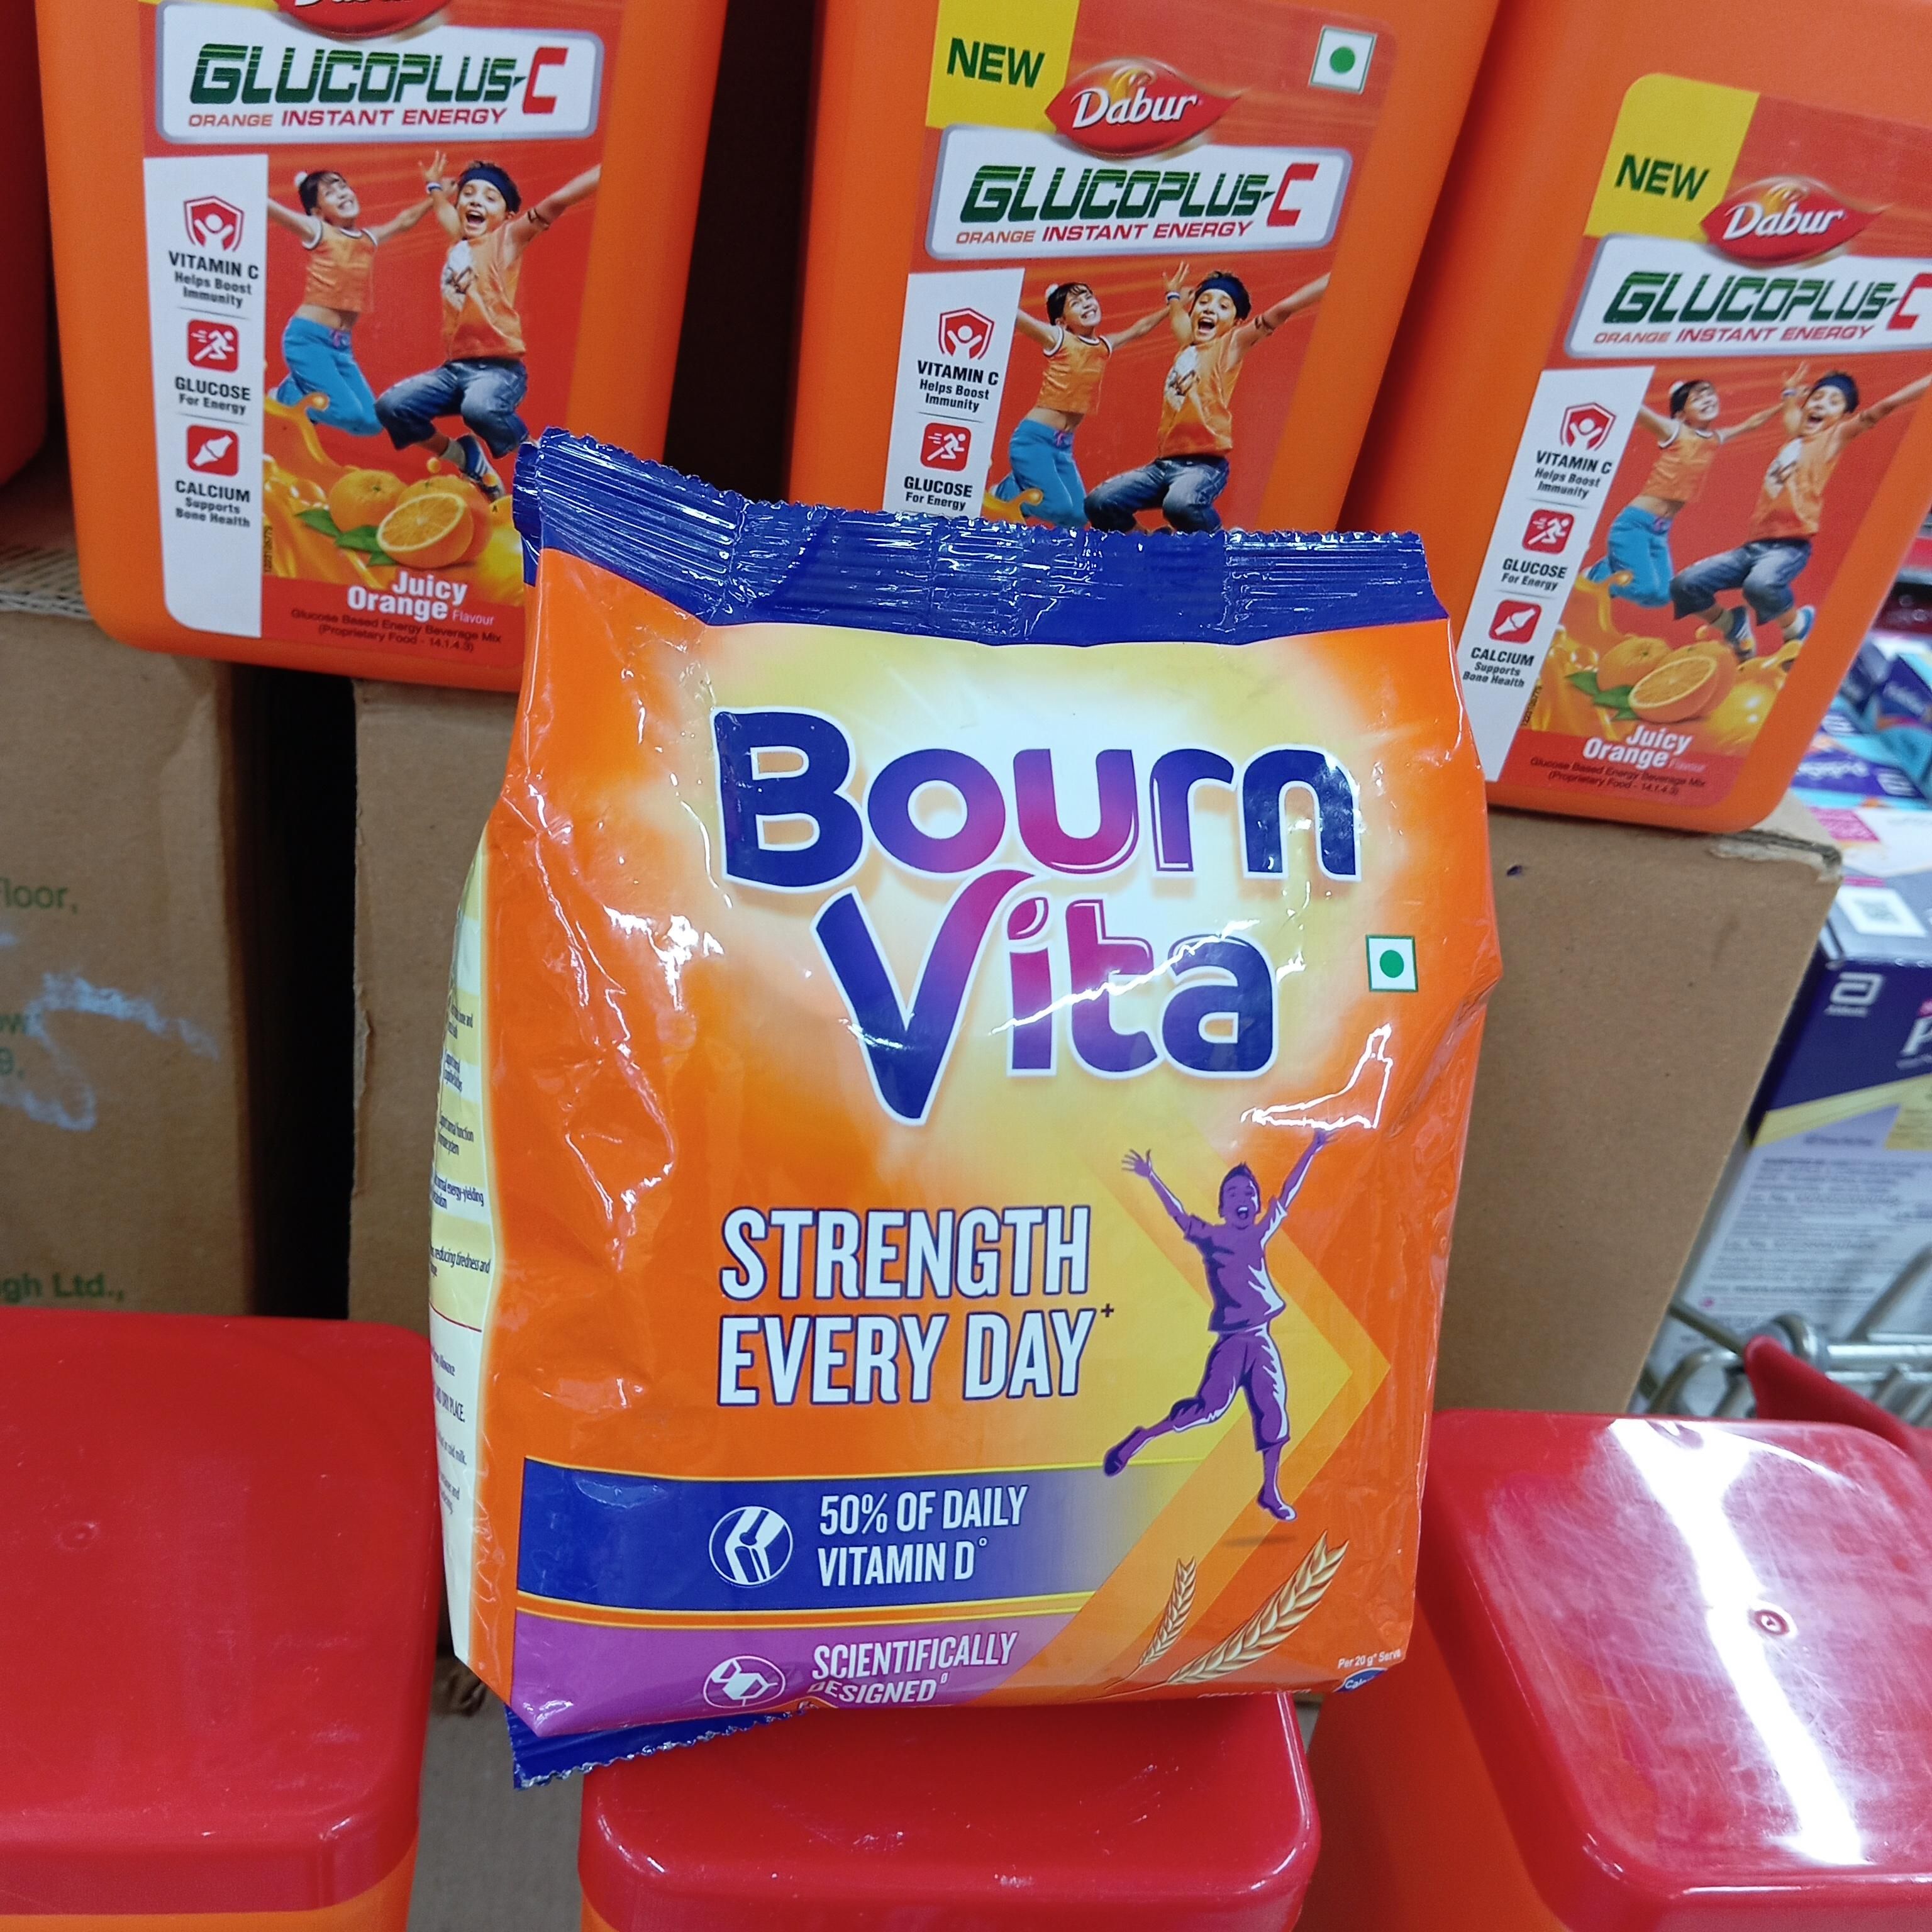BOURN_VITA_500_G_POUCH: (497, 441, 1401, 1707)
